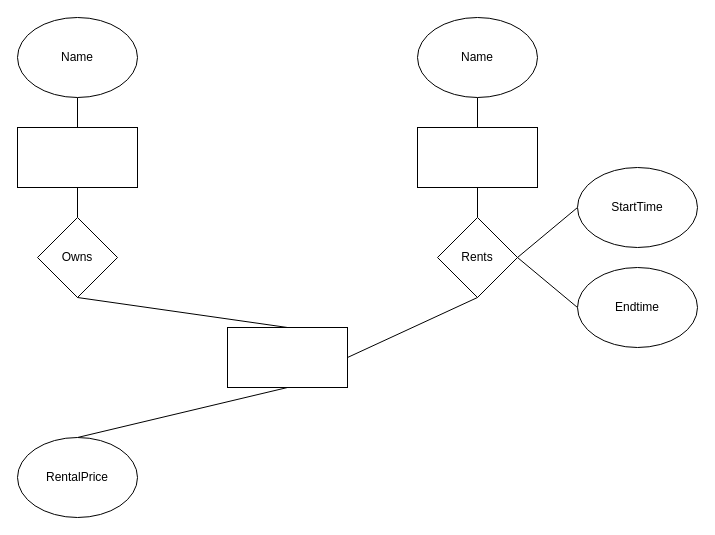
Image size: 715x535. Some labels were removed from this diagram. The centre of each missing label's shape, as x and y in pixels:
Apartment: the point at 287,357
Owner: the point at 77,157
Renter: the point at 477,157
